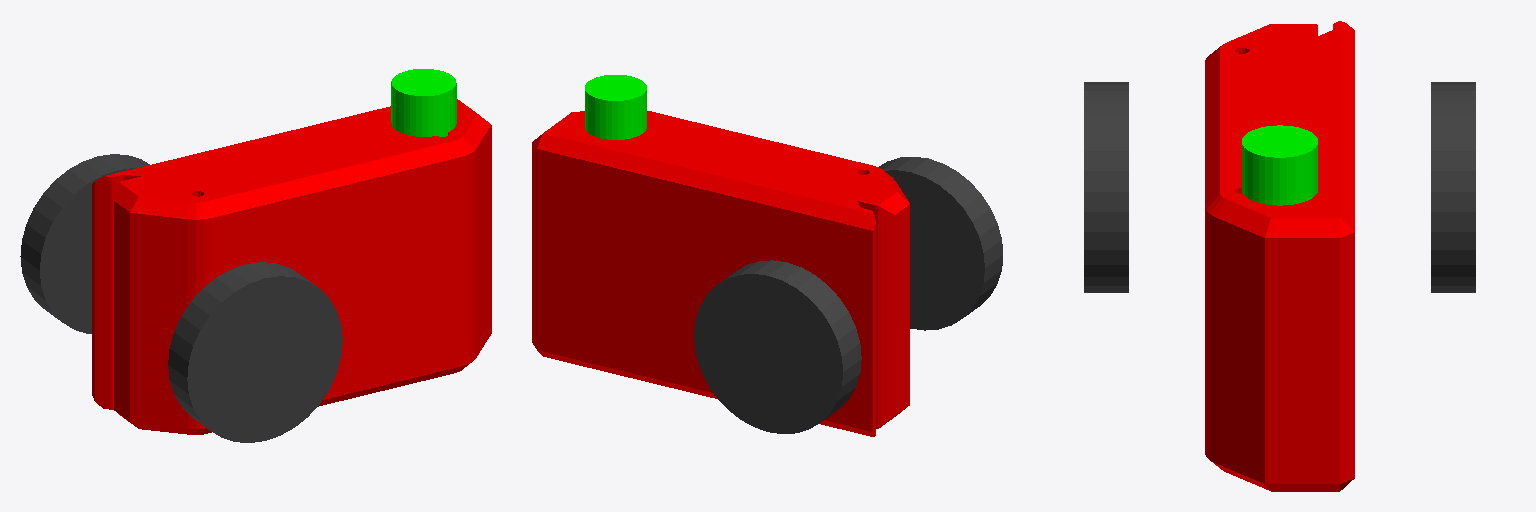
URDF robot description (twr):
<?xml version="1.0" ?>
<!-- =================================================================================== -->
<!-- |    This document was autogenerated by xacro from ../xacro/twr.xacro             | -->
<!-- |    EDITING THIS FILE BY HAND IS NOT RECOMMENDED                                 | -->
<!-- =================================================================================== -->
<robot name="twr">
  <!-- ****************************************************** Two Wheeled Robot ********************************************************  -->
  <!-- [author]                                                                                                                  -->
  <!-- March 2022                                                                                                                         -->
  <!-- *********************************************************************************************************************************  -->
  <!-- ****************************************************** Parameters ***************************************************************  -->
  <!-- ****************************************************** Colors *******************************************************************  -->
  <material name="red">
    <color rgba="1.0 0.0 0.0 1.0"/>
  </material>
  <material name="green">
    <color rgba="0.0 1.0 0.0 1.0"/>
  </material>
  <material name="blue">
    <color rgba="0.0 0.0 1.0 1.0"/>
  </material>
  <material name="black">
    <color rgba="0.3 0.3 0.3 1.0"/>
  </material>
  <material name="white">
    <color rgba="1.0 1.0 1.0 1.0"/>
  </material>
  <!-- ****************************************************** Macros *******************************************************************  -->
  <!-- Define intertial property macros                                                                                                   -->
  <!-- ****************************************************** Base Footprint Link ******************************************************  -->
  <!-- Define the center of the main robot chassis projected on the ground                                                                -->
  <link name="base_footprint"/>
  <!-- ****************************************************** Base Footprint Joint *****************************************************  -->
  <!-- The base footprint of the robot is located underneath the chassis                                                                  -->
  <joint name="base_joint" type="fixed">
    <parent link="base_footprint"/>
    <child link="base_link"/>
    <origin rpy="0 0 0" xyz="0.0 0.0 0.19"/>
  </joint>
  <!-- ****************************************************** Base Link ****************************************************************  -->
  <link name="base_link">
    <visual>
      <origin rpy="1.5707963267949 0 3.141592654" xyz="0 0 -0.05"/>
      <geometry>
        <mesh filename="package://robot_gazebo/meshes/twr/robot_base.stl"/>
      </geometry>
      <material name="red"/>
    </visual>
    <collision>
      <geometry>
        <box size="0.7 0.39 0.2"/>
      </geometry>
    </collision>
    <inertial>
      <origin rpy="1.5707963267948966 0 1.5707963267948966" xyz="0 0 0"/>
      <mass value="40.0"/>
      <inertia ixx="1.7666666666666664" ixy="0.0" ixz="0.0" iyy="2.140333333333333" iyz="0.0" izz="0.6403333333333334"/>
    </inertial>
  </link>
  <!-- ****************************************************** Drive Wheels Link Macro **************************************************  -->
  <!-- ****************************************************** Drive Wheels Link and Joint **********************************************  -->
  <!-- Instantiate two wheels using the macro we just made through the xacro:wheel tags. We also define the parameters to have one        -->
  <!-- wheel on both sides at the back of our robot (i.e. x_reflect=-1).                                                                  -->
  <link name="drivewhl_l_link">
    <visual>
      <origin rpy="1.5707963267949 0 0" xyz="0 0 0"/>
      <geometry>
        <cylinder length="0.06" radius="0.14"/>
      </geometry>
      <material name="black"/>
    </visual>
    <collision>
      <origin rpy="1.5707963267948966 0 0" xyz="0 0 0"/>
      <geometry>
        <cylinder length="0.06" radius="0.14"/>
      </geometry>
    </collision>
    <inertial>
      <origin rpy="1.5707963267948966 0 0" xyz="0 0 0"/>
      <mass value="110.5"/>
      <inertia ixx="0.5746000000000001" ixy="0" ixz="0" iyy="0.5746000000000001" iyz="0" izz="1.0829000000000002"/>
    </inertial>
  </link>
  <!-- ****************************************************** Drive Wheels Joint Macro *************************************************  -->
  <!-- Connect the wheels to the base_link at the appropriate location, and define a continuous joint to allow the wheels to freely       -->
  <!-- rotate about an axis                                                                                                               -->
  <joint name="drivewhl_l_joint" type="revolute">
    <parent link="base_link"/>
    <child link="drivewhl_l_link"/>
    <origin rpy="0 0 0" xyz="-0.221 0.23 -0.05"/>
    <limit effort="30" lower="-3.1415" upper="3.1415" velocity="5.0"/>
    <axis xyz="0 1 0"/>
  </joint>
  <link name="drivewhl_r_link">
    <visual>
      <origin rpy="1.5707963267949 0 0" xyz="0 0 0"/>
      <geometry>
        <cylinder length="0.06" radius="0.14"/>
      </geometry>
      <material name="black"/>
    </visual>
    <collision>
      <origin rpy="1.5707963267948966 0 0" xyz="0 0 0"/>
      <geometry>
        <cylinder length="0.06" radius="0.14"/>
      </geometry>
    </collision>
    <inertial>
      <origin rpy="1.5707963267948966 0 0" xyz="0 0 0"/>
      <mass value="110.5"/>
      <inertia ixx="0.5746000000000001" ixy="0" ixz="0" iyy="0.5746000000000001" iyz="0" izz="1.0829000000000002"/>
    </inertial>
  </link>
  <!-- ****************************************************** Drive Wheels Joint Macro *************************************************  -->
  <!-- Connect the wheels to the base_link at the appropriate location, and define a continuous joint to allow the wheels to freely       -->
  <!-- rotate about an axis                                                                                                               -->
  <joint name="drivewhl_r_joint" type="revolute">
    <parent link="base_link"/>
    <child link="drivewhl_r_link"/>
    <origin rpy="0 0 0" xyz="-0.221 -0.23 -0.05"/>
    <limit effort="30" lower="-3.1415" upper="3.1415" velocity="5.0"/>
    <axis xyz="0 1 0"/>
  </joint>
  <!-- ****************************************************** Front Caster Link ********************************************************  -->
  <!-- We add a caster wheel. It will be modeled as sphere. We define the wheel’s geometry, material and the joint to connect it to       -->
  <!-- base_link at the appropriate location.                                                                                             -->
  <link name="front_caster">
    <visual>
      <geometry>
        <sphere radius="0.09"/>
      </geometry>
      <material name="white"/>
    </visual>
    <collision>
      <origin rpy="0 0 0" xyz="0 0 0"/>
      <geometry>
        <sphere radius="0.09"/>
      </geometry>
    </collision>
    <inertial>
      <mass value="10.05"/>
      <inertia ixx="0.032562" ixy="0.0" ixz="0.0" iyy="0.032562" iyz="0.0" izz="0.032562"/>
    </inertial>
  </link>
  <!-- **************************************************** Front Caster Joint *********************************************************  -->
  <joint name="caster_joint" type="fixed">
    <parent link="base_link"/>
    <child link="front_caster"/>
    <origin rpy="0 0 0" xyz="0.217 0.0 -0.1"/>
  </joint>
  <!-- ****************************************************** IMU Joint ****************************************************************  -->
  <!-- Each sensor must be attached to a link.                                                                                            -->
  <joint name="imu_joint" type="fixed">
    <parent link="base_link"/>
    <child link="imu_link"/>
    <origin rpy="0 0 0" xyz="-0.10 0 0.05"/>
  </joint>
  <!-- ****************************************************** IMU Link *****************************************************************  -->
  <link name="imu_link"/>
  <!-- ****************************************************** LIDAR Joint **************************************************************  -->
  <joint name="lidar_joint" type="fixed">
    <parent link="base_link"/>
    <child link="lidar_link"/>
    <origin rpy="0 0 0" xyz="0.215 0 0.13"/>
  </joint>
  <!-- ****************************************************** LIDAR Link ***************************************************************  -->
  <link name="lidar_link">
    <collision>
      <origin rpy="0 0 0" xyz="0 0 0"/>
      <geometry>
        <cylinder length="0.18" radius="0.0508"/>
      </geometry>
    </collision>
    <visual>
      <origin rpy="0 0 0" xyz="0 0 0"/>
      <geometry>
        <cylinder length="0.18" radius="0.0508"/>
      </geometry>
      <material name="green"/>
    </visual>
    <inertial>
      <mass value="0.114"/>
      <origin rpy="0 0 0" xyz="0 0 0"/>
      <inertia ixx="0.001" ixy="0" ixz="0" iyy="0.001" iyz="0" izz="0.001"/>
    </inertial>
  </link>
  <!-- ****************************************************** Gazebo Colors*************************************************************  -->
  <gazebo reference="base_link">
    <material>Gazebo/Red</material>
  </gazebo>
  <gazebo reference="drivewhl_l_link">
    <material>Gazebo/Gray</material>
  </gazebo>
  <gazebo reference="drivewhl_r_link">
    <material>Gazebo/Gray</material>
  </gazebo>
  <gazebo reference="front_caster">
    <material>Gazebo/White</material>
  </gazebo>
  <gazebo reference="lidar_link">
    <material>Gazebo/Green</material>
  </gazebo>
  <!-- *********************************************************************************************************************************  -->
</robot>

--- Facts derived from the render (not from the file) ---
Views: 3 orthographic renders of the robot side by side, from view 1: azimuth 30°, elevation 25°; view 2: azimuth 150°, elevation 25°; view 3: azimuth 270°, elevation 25°.
Robot: twr — 7 links, 6 joints (2 revolute, 4 fixed); root link base_footprint; default pose: all joints at 0.
Links seen in each view (by area): view 1: base_link, drivewhl_r_link, drivewhl_l_link, lidar_link; view 2: base_link, drivewhl_l_link, drivewhl_r_link, lidar_link; view 3: base_link, drivewhl_l_link, drivewhl_r_link, lidar_link.
Link boxes in pixels (<box>): base_link: <box>92,99,491,434</box>; drivewhl_r_link: <box>168,262,342,442</box>; drivewhl_l_link: <box>20,154,149,333</box>; lidar_link: <box>391,69,456,136</box>; base_link: <box>532,111,909,436</box>; drivewhl_l_link: <box>694,260,861,433</box>; drivewhl_r_link: <box>879,157,1002,330</box>; lidar_link: <box>585,75,646,139</box>; base_link: <box>1205,21,1354,491</box>; drivewhl_l_link: <box>1431,82,1475,292</box>; drivewhl_r_link: <box>1084,82,1128,292</box>; lidar_link: <box>1242,125,1317,205</box>.
Size in the robot's own frame: 0.686 by 0.52 by 0.47 metres.
1 mesh visuals loaded from 1 distinct referenced files (1 binary STL).